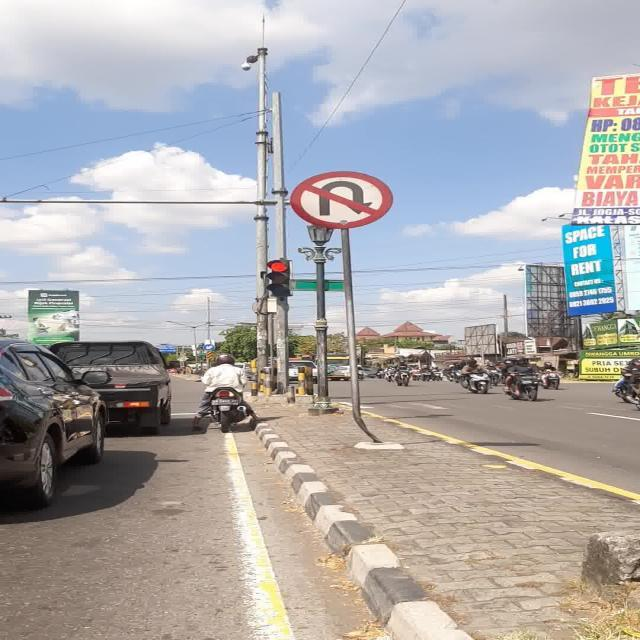Dilarang Putar Balik: (289, 171, 393, 228)
